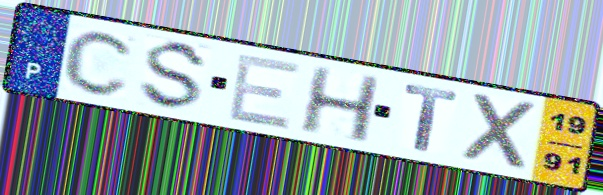C: (60, 28, 140, 98)
E: (224, 51, 304, 133)
H: (295, 64, 384, 146)
S: (134, 39, 214, 113)
T: (402, 82, 460, 155)
X: (460, 89, 544, 175)
